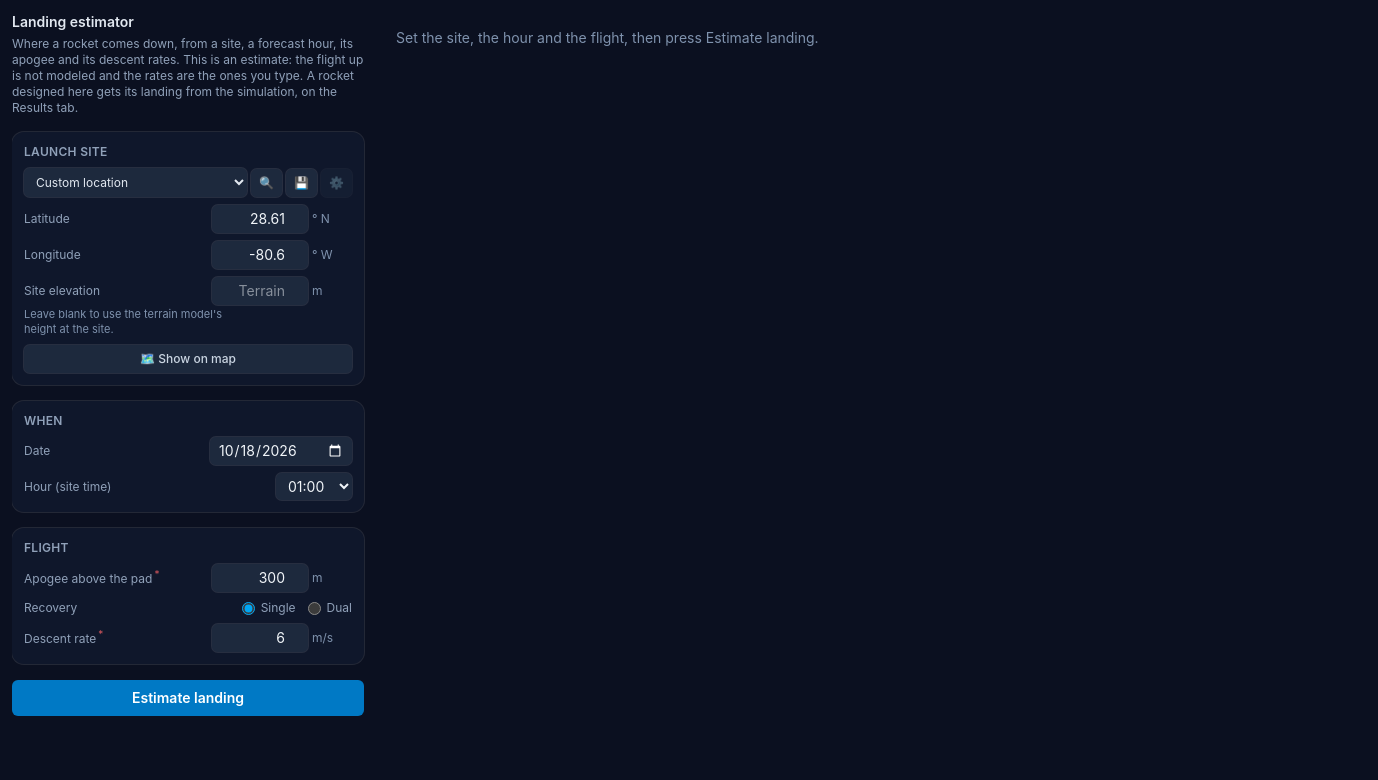
Test: a result after its inputs change › keeps a real site under the map when a coordinate is cleared
Step 1. Click the button "Estimate landing" → x=188, y=698, box [12,680,364,716]
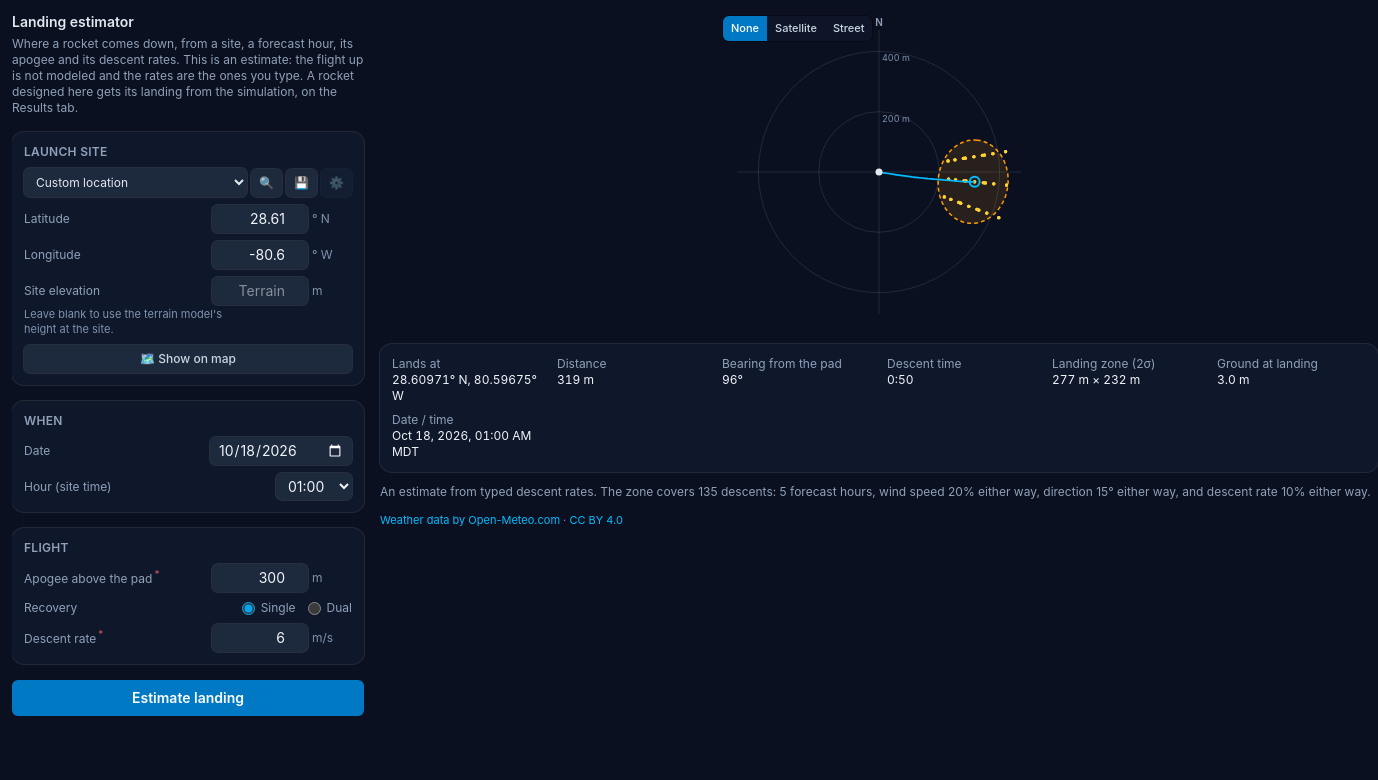
expect the text "Lands at" is shown: met, box [392,356,440,371]
Step 2. Clear the number field labelled "Longitude" → x=260, y=255, box [212,241,308,269]
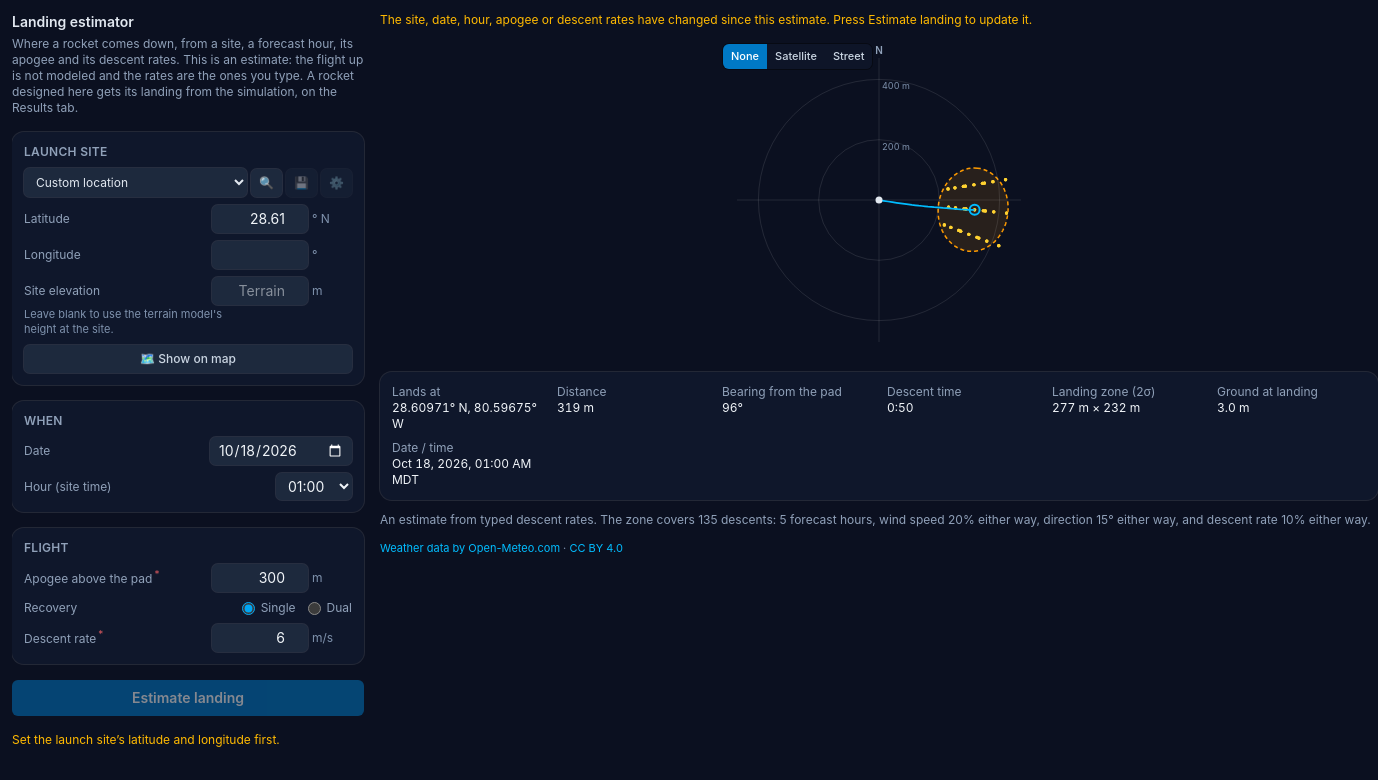
expect the text "have changed since this estimate" is shown: met, box [380,12,1032,27]
